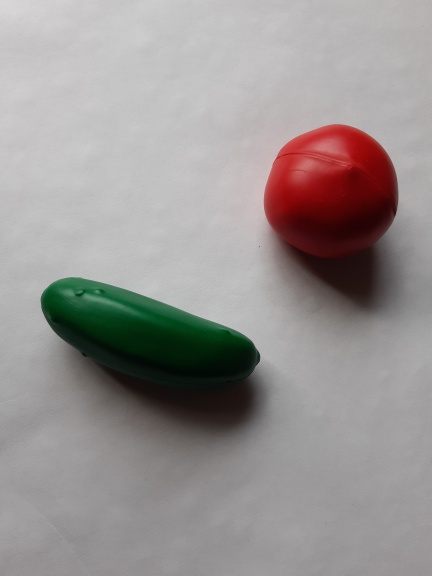cucumber: (35, 269, 271, 399)
tomato: (251, 117, 404, 266)
